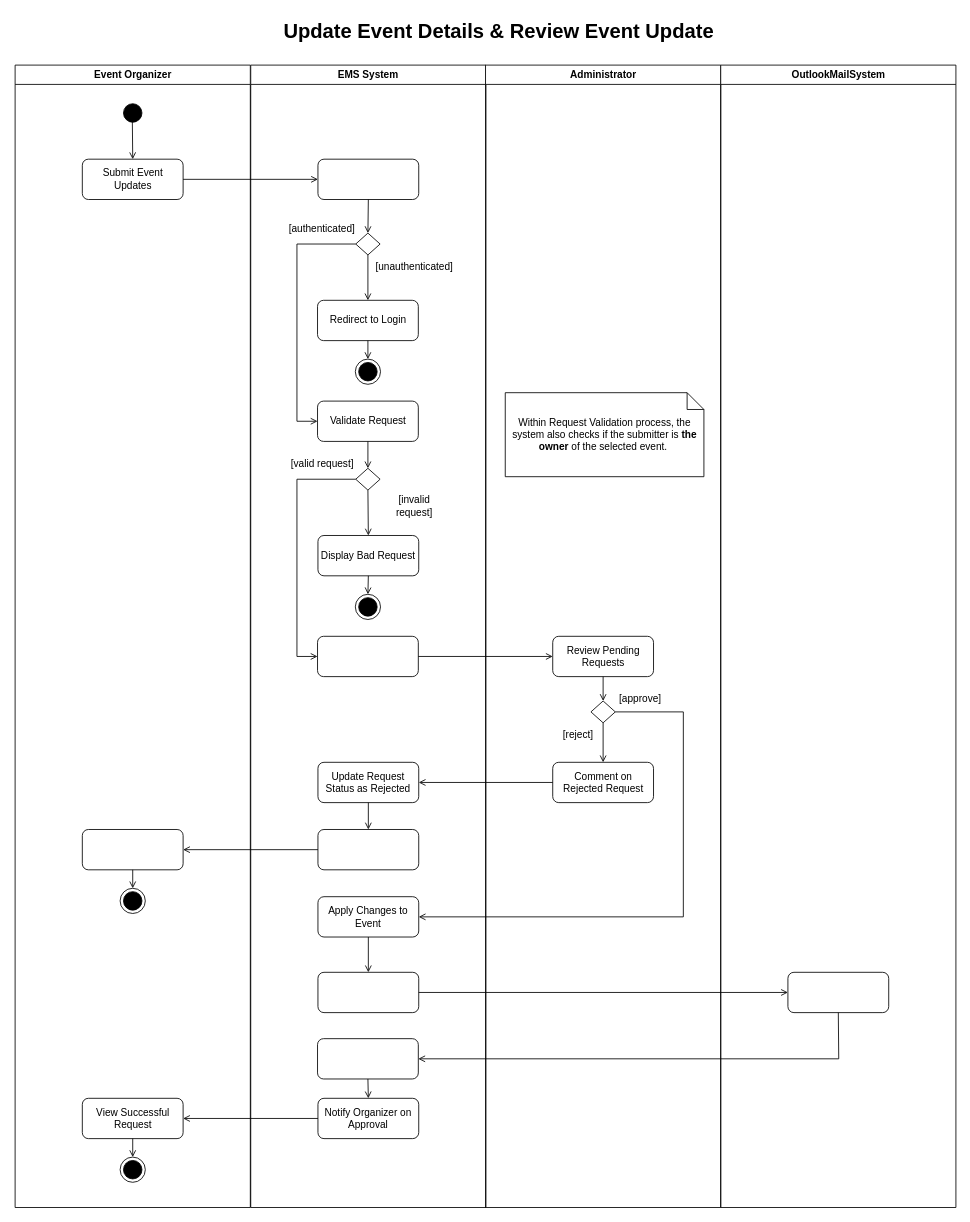
Image size: 970x1222. Some labels were removed from this diagram. The centre of each missing label's shape, as x and y in pixels:
"Authenticate Organizer" belongs at point (368, 179).
"Fetch Participants' Emails" belongs at point (368, 992).
"Notify Organizer on Rejection" belongs at point (368, 849).
"Send Notification to Participants" belongs at point (838, 992).
"Store Request as Pending" belongs at point (367, 656).
"Update Request Status as Approved" belongs at point (367, 1058).
"View Rejection and Comments" belongs at point (132, 849).
